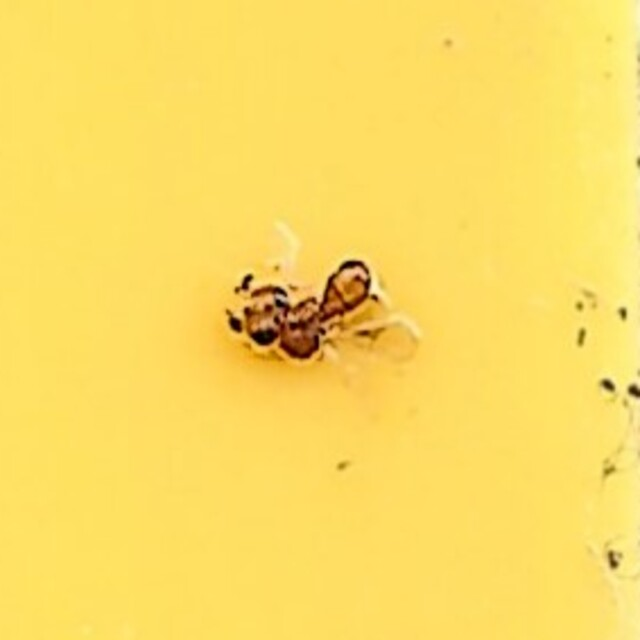Hymenoptera: (226, 256, 414, 384)
